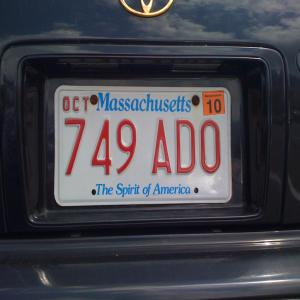Vehicle-registration-plate: (53, 85, 233, 205)
